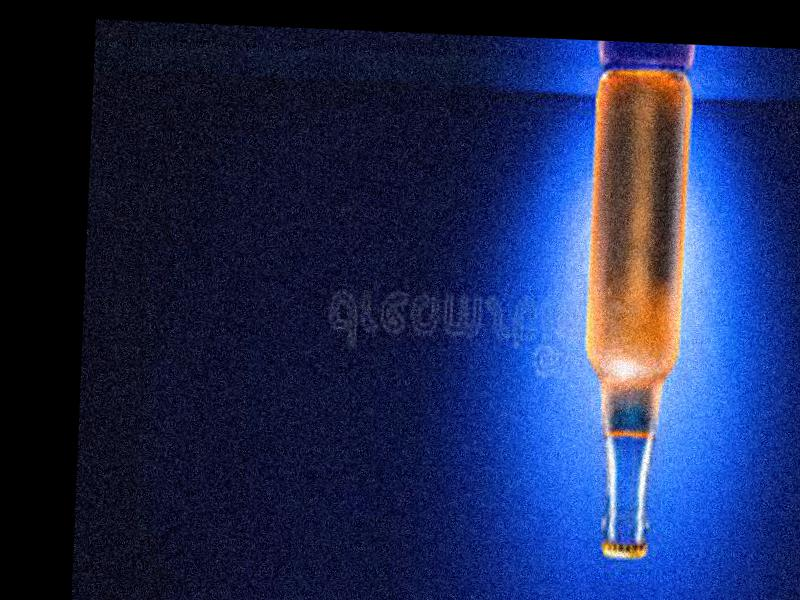Beer: (574, 68, 697, 560)
